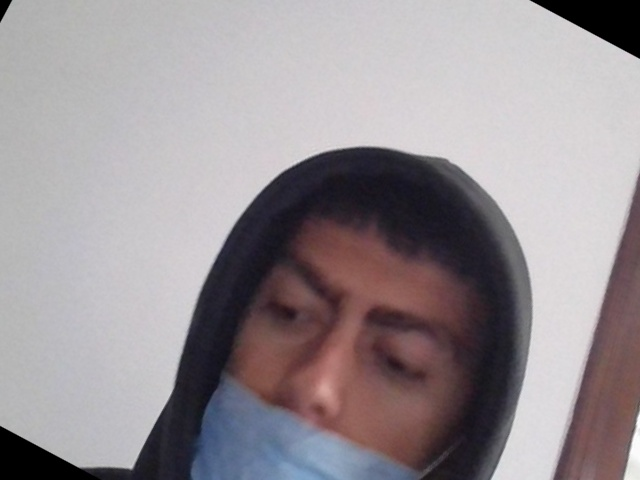mask_weared_incorrect: (173, 193, 487, 480)
